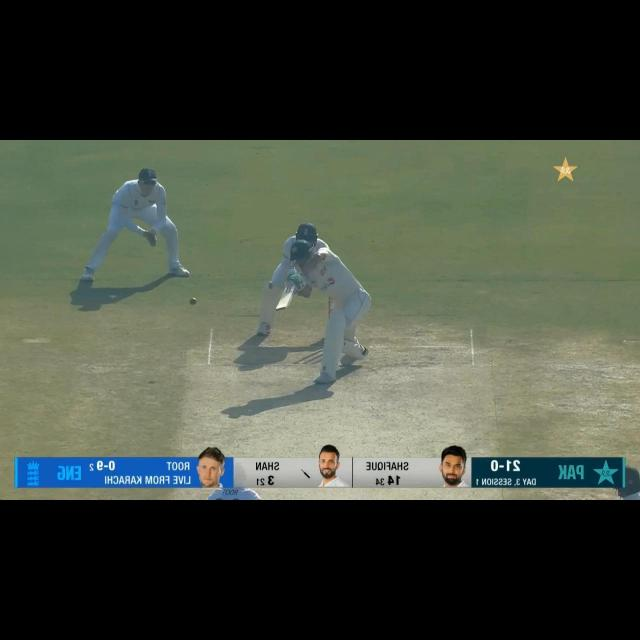bat: (277, 282, 294, 312)
toe: (274, 304, 288, 311)
